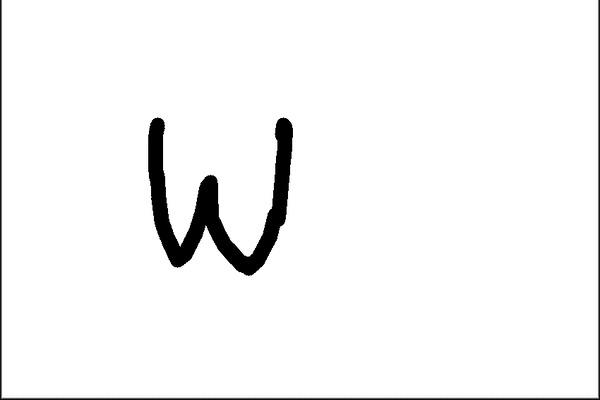w: (121, 98, 304, 297)
